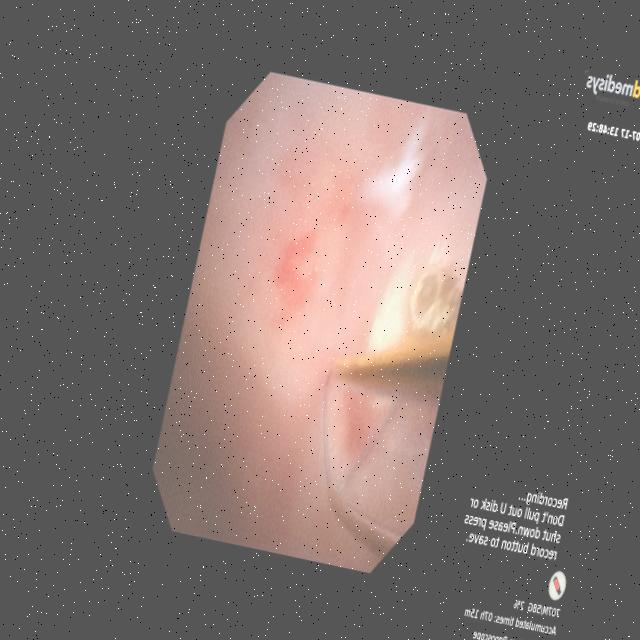stone-new: (409, 266, 462, 335)
